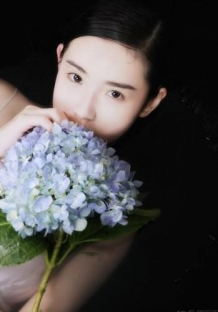face: (54, 30, 139, 153)
